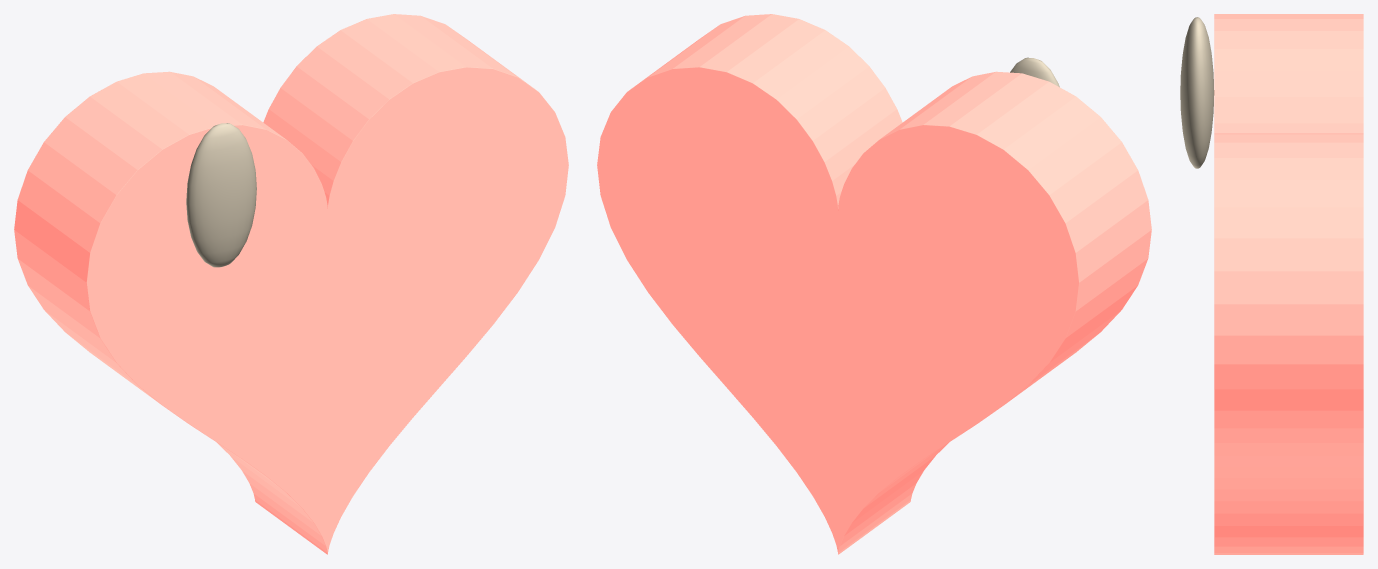
Rendered from health_pickup.glb.
The picture shows the model from 3 angles, left to right: view 1: azimuth 30°, elevation 25°; view 2: azimuth 150°, elevation 25°; view 3: azimuth 270°, elevation 25°; orthographic projection. The views are drawn at different scales.
Visible parts, largest first — view 1: Heart_full, Heart_glint; view 2: Heart_full, Heart_glint; view 3: Heart_full, Heart_glint.
Part boxes in pixels (x1=…): Heart_full: x1=14, y1=14, x2=568, y2=554; Heart_glint: x1=186, y1=123, x2=256, y2=267; Heart_full: x1=597, y1=14, x2=1151, y2=554; Heart_glint: x1=1010, y1=57, x2=1059, y2=87; Heart_full: x1=1214, y1=14, x2=1363, y2=554; Heart_glint: x1=1180, y1=17, x2=1214, y2=168.
Size of the model in its own units: 0.8421 by 0.7771 by 0.27.
